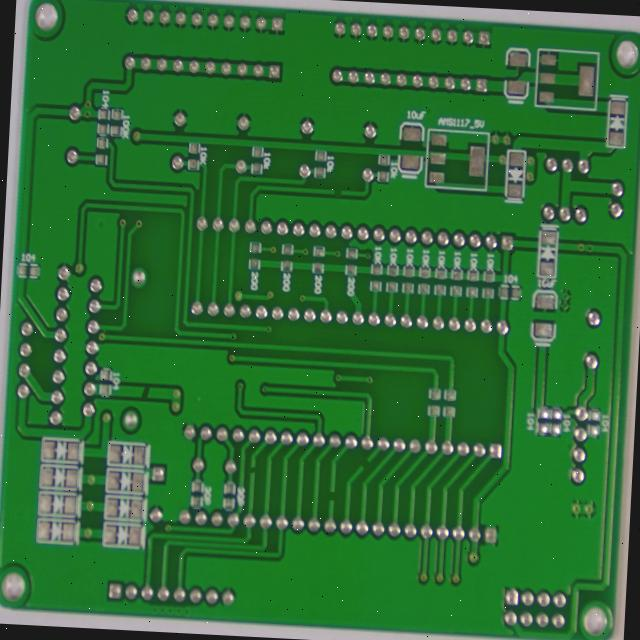open_circuit: (137, 385, 155, 402), (360, 456, 373, 474), (330, 186, 345, 199), (326, 488, 338, 504), (247, 463, 259, 477)
